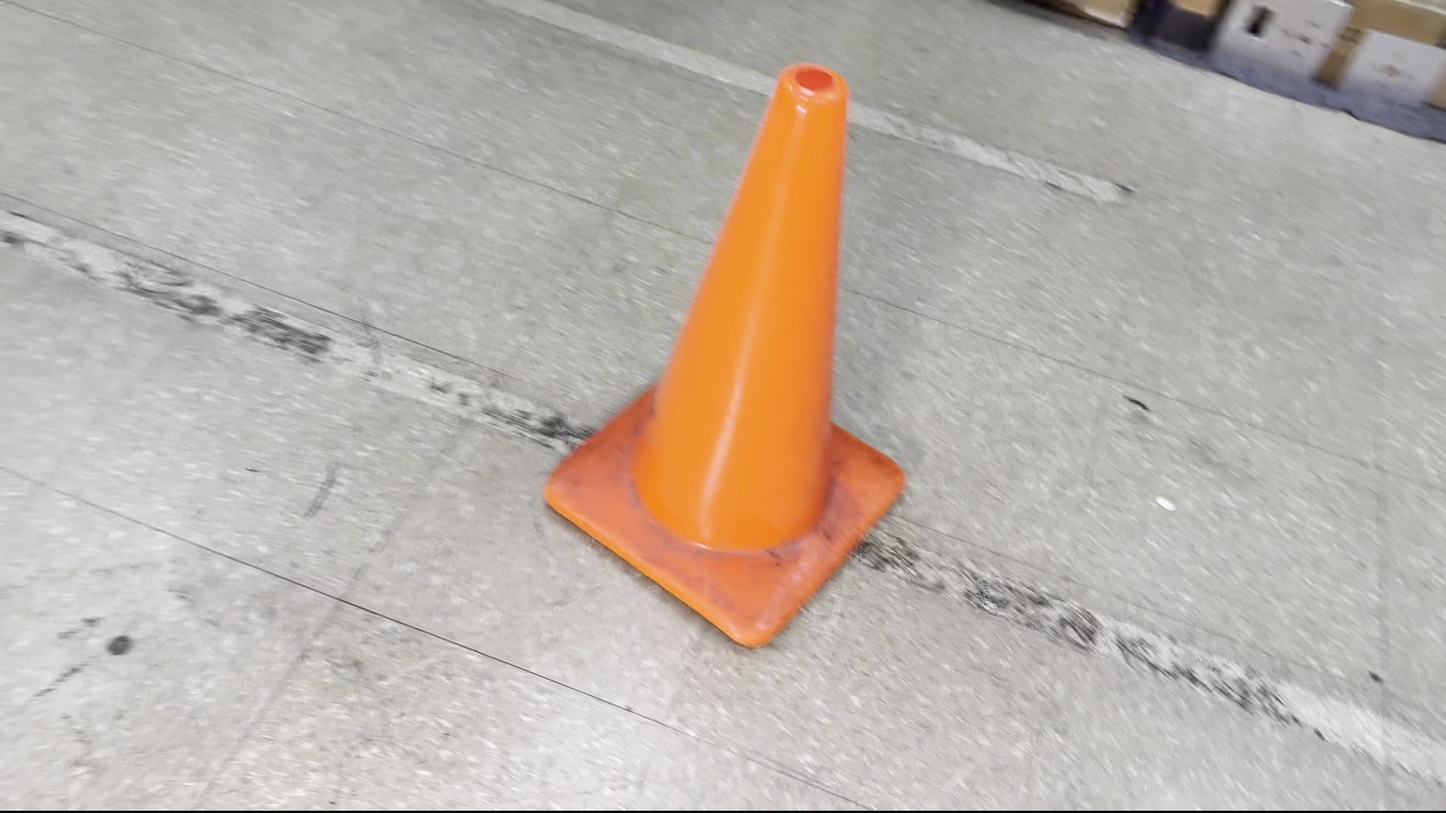traffic_cone: (543, 61, 907, 650)
